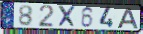2: (38, 4, 55, 28)
4: (98, 6, 117, 30)
6: (81, 6, 94, 28)
8: (18, 5, 35, 27)
A: (116, 7, 139, 30)
X: (57, 5, 77, 28)
